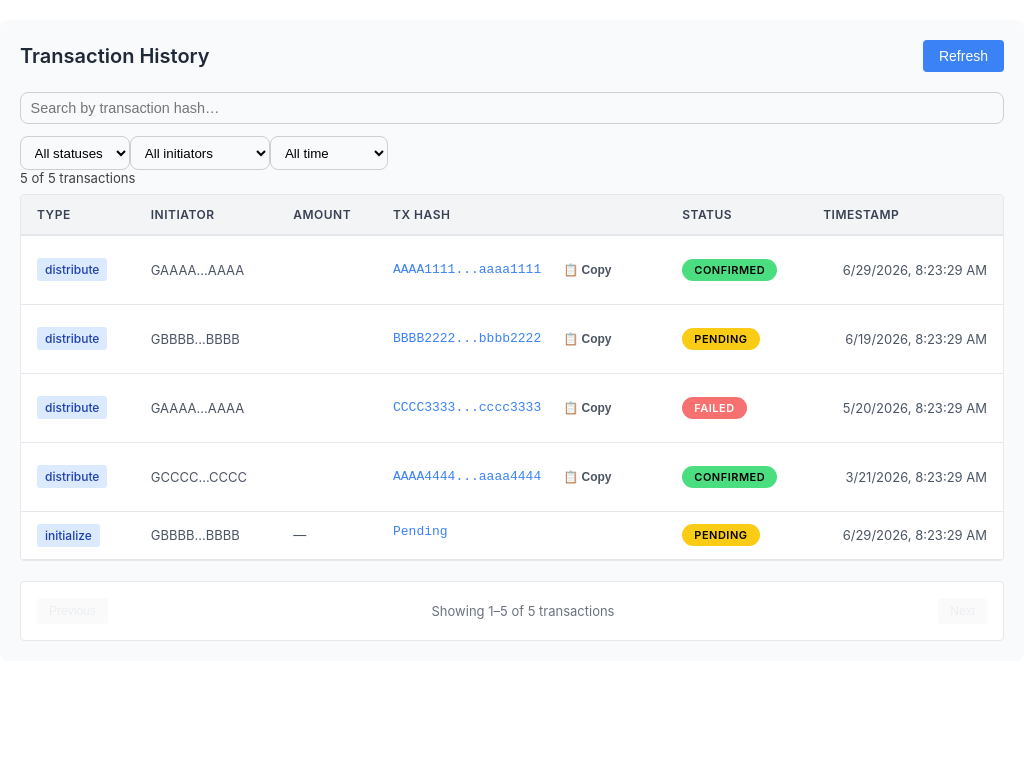
Test: TransactionHistory filters (#413) › filters by status
Check: the text "5 of 5 transactions" is shown, box top-left (20, 170), bottom-right (135, 186)
Select "Failed" in the dropdown named "Filter by status" at (75, 153), box top-left (20, 136), bottom-right (130, 170)
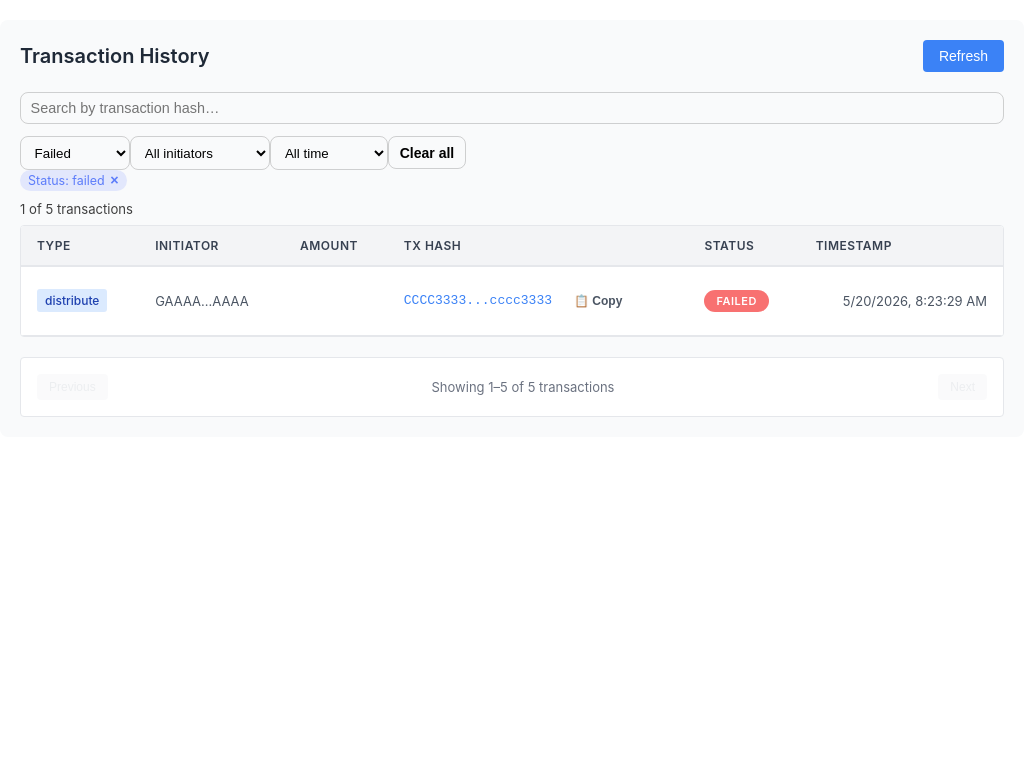
Check: the text with test id "tx-result-count" reads "1 of 5 transactions", box top-left (20, 201), bottom-right (133, 217)
